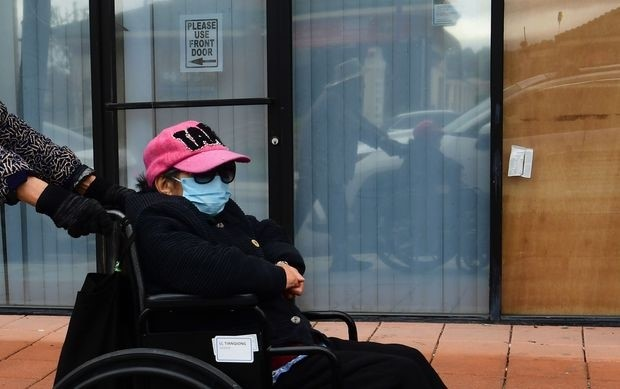face_with_mask: (144, 117, 245, 219)
